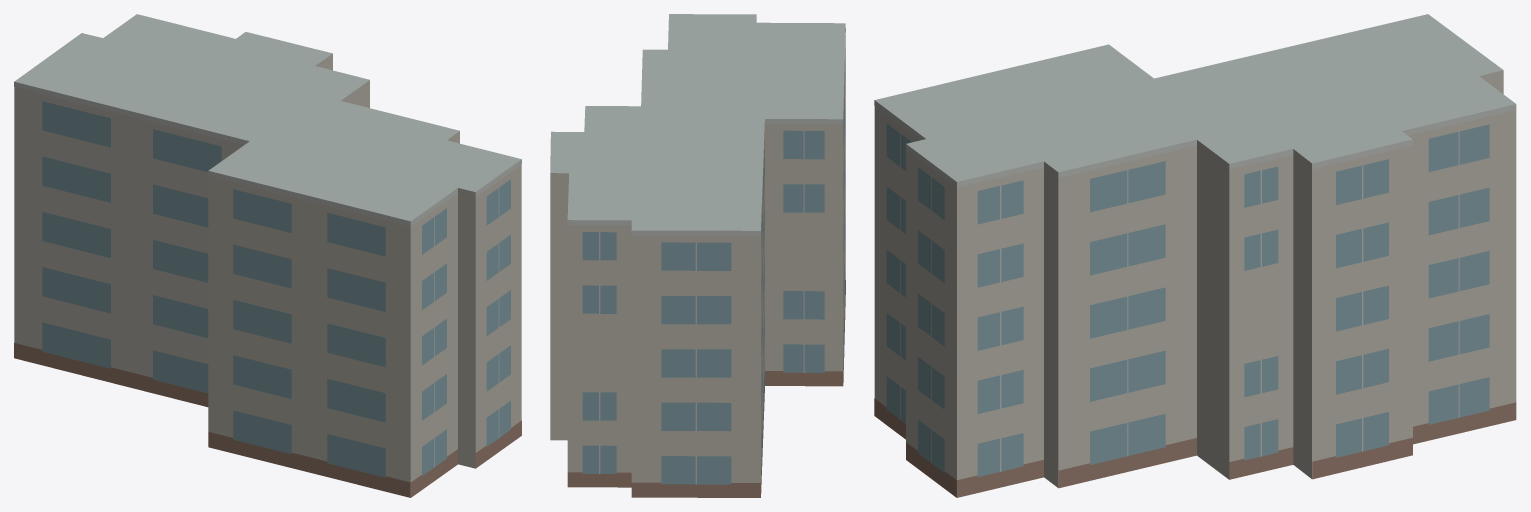
File: survey-upis-32617825.glb
3 views of the same model, side by side, from view 1: azimuth 30°, elevation 25°; view 2: azimuth 150°, elevation 25°; view 3: azimuth 270°, elevation 25° (orthographic). The views are drawn at different scales.
Parts seen in each view (by area): view 1: survey-upis-32617825.tmp; view 2: survey-upis-32617825.tmp; view 3: survey-upis-32617825.tmp.
Boxes of the visible parts, left/top/right/bottom form: survey-upis-32617825.tmp: left=14, top=14, right=521, bottom=497; survey-upis-32617825.tmp: left=550, top=14, right=845, bottom=497; survey-upis-32617825.tmp: left=874, top=14, right=1516, bottom=497.
Bounding box in the file's own units: 14.72 × 12.9 × 23.76.
